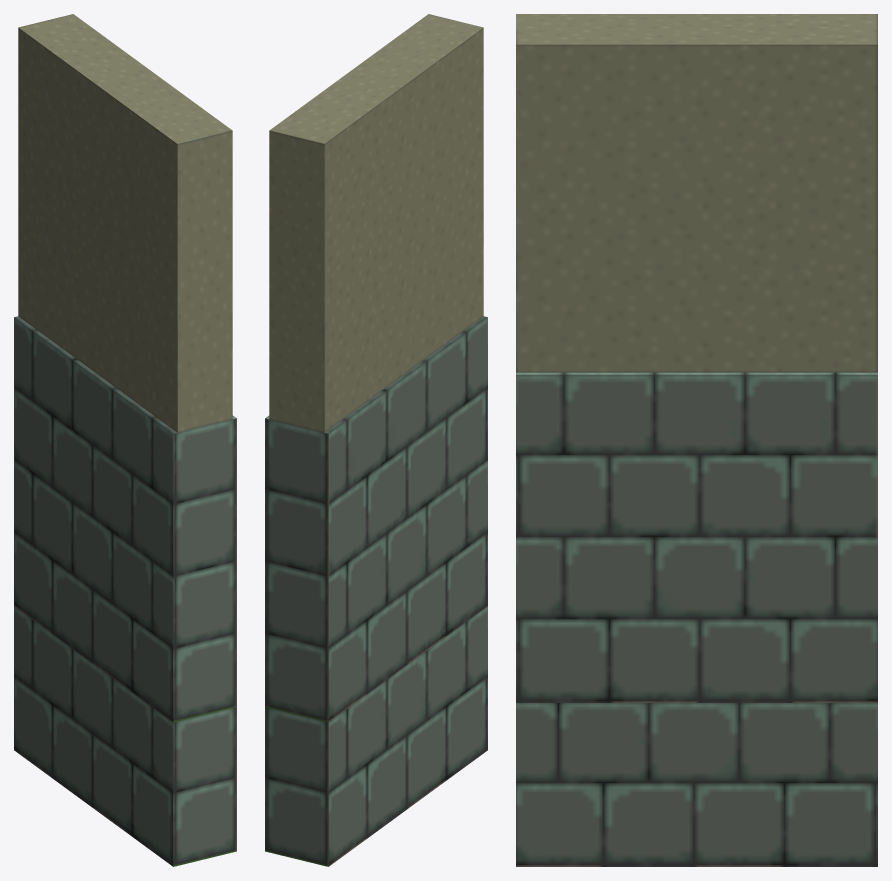
File: obj_wall_1x2m_v2.fbx
3 renders of one model, left to right at view 1: azimuth 30°, elevation 25°; view 2: azimuth 150°, elevation 25°; view 3: azimuth 270°, elevation 25°, orthographic. The views are drawn at different scales.
Parts seen in each view (by area): view 1: obj_wall_1x2m_v2; view 2: obj_wall_1x2m_v2; view 3: obj_wall_1x2m_v2.
Boxes of the visible parts, x1=… form: obj_wall_1x2m_v2: x1=14, y1=14, x2=236, y2=866; obj_wall_1x2m_v2: x1=265, y1=14, x2=487, y2=866; obj_wall_1x2m_v2: x1=516, y1=14, x2=877, y2=866.
Bounding box in the file's own units: 23 × 250 × 100.
